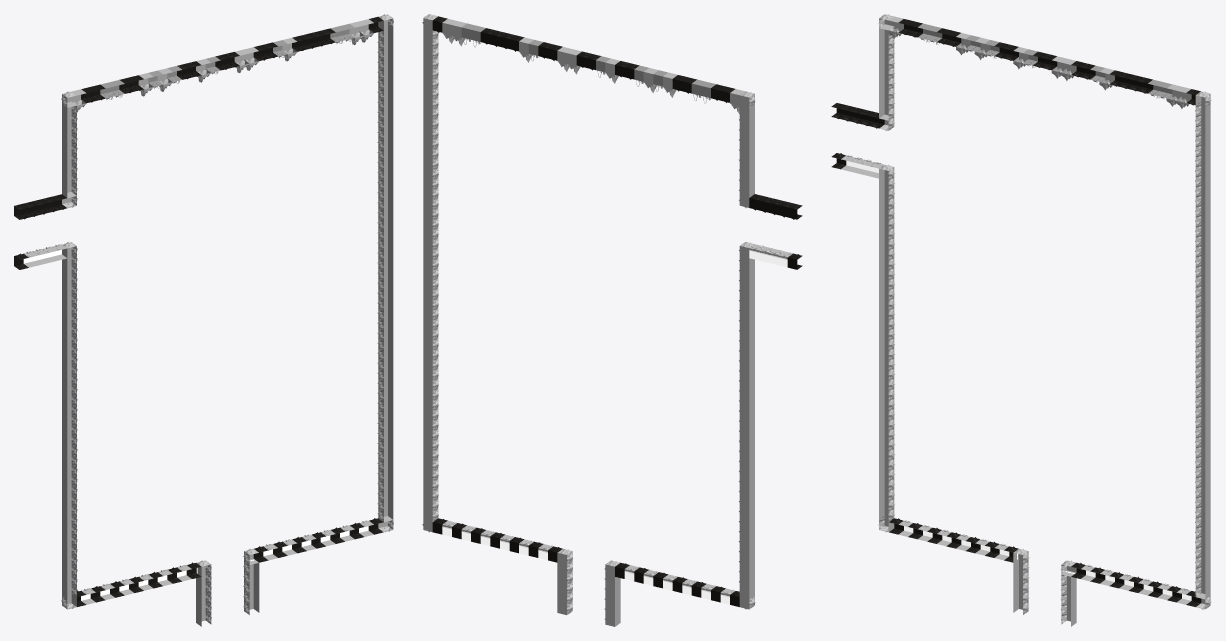
The model's file is Cubi_RoomBOSS.fbx.
3 renders of one model, left to right at view 1: azimuth 30°, elevation 25°; view 2: azimuth 150°, elevation 25°; view 3: azimuth 330°, elevation 25°, orthographic.
Parts seen in each view (by area): view 1: polySurface55; view 2: polySurface55; view 3: polySurface55.
Boxes of the visible parts, bbox=[...] form: polySurface55: bbox=[14, 14, 393, 626]; polySurface55: bbox=[422, 14, 802, 626]; polySurface55: bbox=[831, 14, 1211, 626].
Bounding box in the file's own units: 3922 × 5622 × 100.
